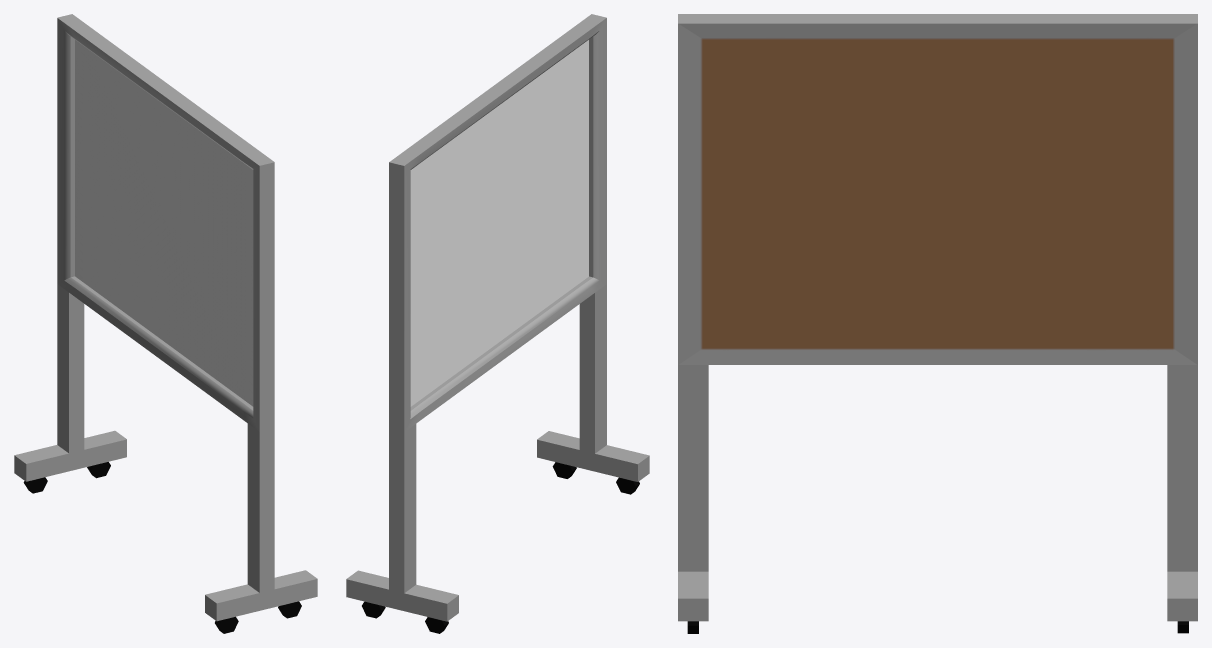
Rendered from Whiteboard.fbx.
3 renders of one model, left to right at view 1: azimuth 30°, elevation 25°; view 2: azimuth 150°, elevation 25°; view 3: azimuth 270°, elevation 25°, orthographic. The views are drawn at different scales.
Visible parts, largest first — view 1: Whiteboard; view 2: Whiteboard; view 3: Whiteboard.
Boxes of the visible parts, x1,y1,x2,y2 form: Whiteboard: (14, 14, 317, 633); Whiteboard: (346, 14, 649, 633); Whiteboard: (678, 14, 1197, 633).
Size of the model in its own units: 0.0178 by 0.0781 by 0.0619.
